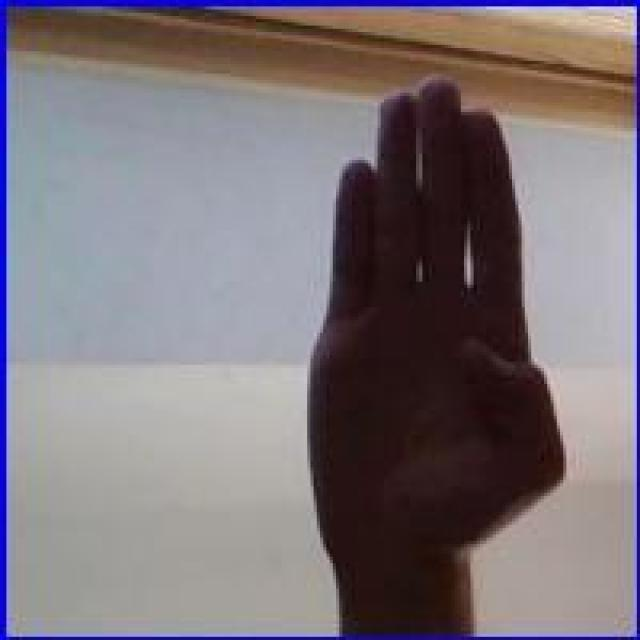B: (296, 69, 590, 600)
